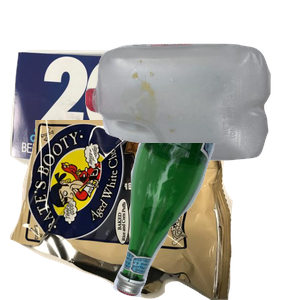glass: (109, 143, 300, 300)
paper: (10, 41, 242, 207)
plastic: (83, 41, 300, 194)
trash: (10, 120, 235, 300)
